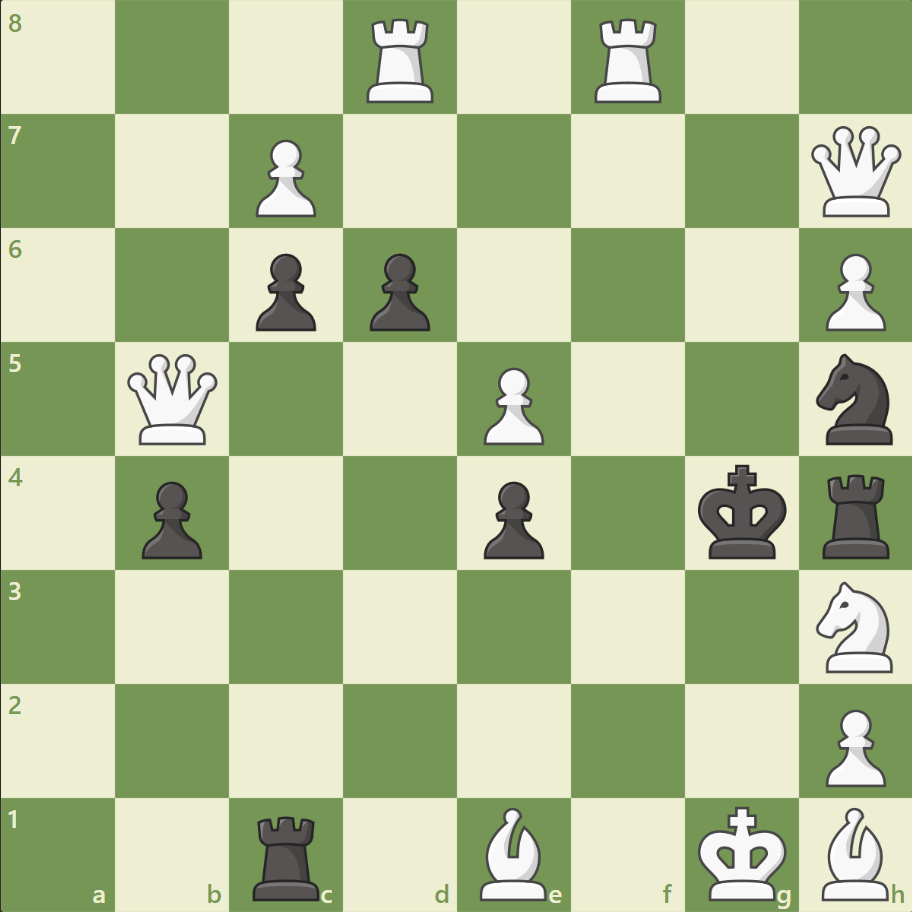B: (471, 801, 555, 904), (812, 801, 896, 904)
K: (692, 798, 792, 906)
N: (806, 575, 903, 677)
P: (247, 132, 322, 223), (474, 359, 549, 450), (815, 246, 889, 337), (815, 700, 889, 791)
Q: (805, 122, 904, 222), (124, 349, 223, 449)
R: (587, 12, 670, 109), (360, 12, 442, 109)
k: (692, 458, 792, 566)
n: (806, 348, 903, 450)
p: (247, 246, 322, 337), (133, 473, 208, 564), (474, 473, 549, 564), (361, 246, 435, 337)
r: (246, 806, 329, 904), (814, 466, 897, 563)
